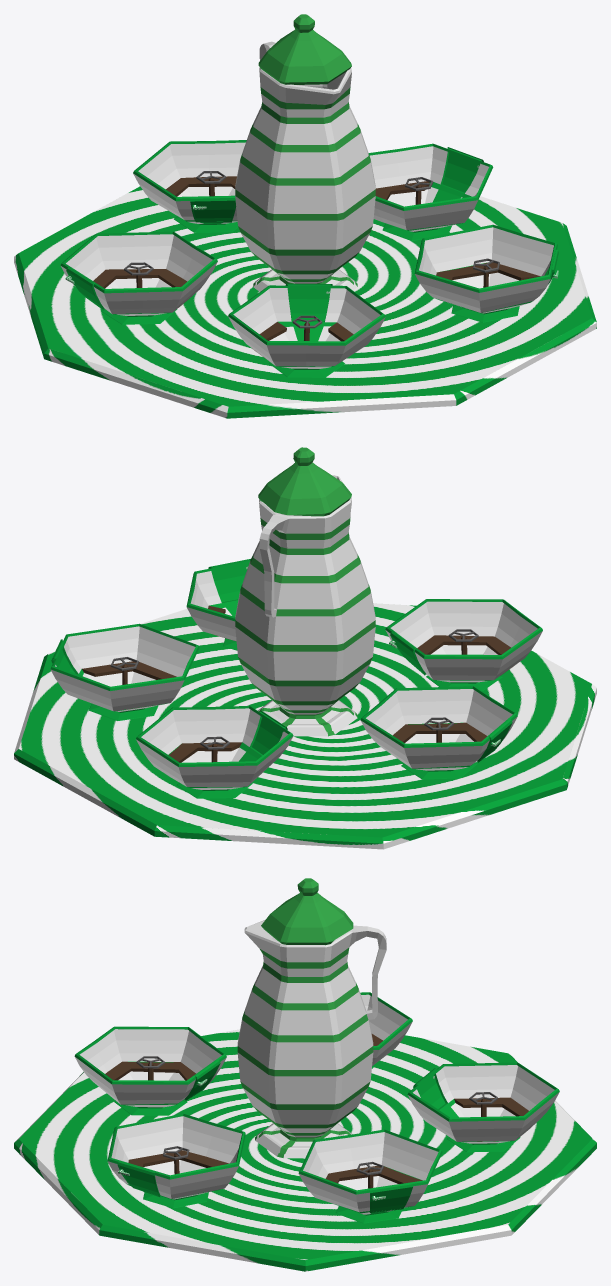
File: Cups_V4.fbx
3 views of the same model, one above another, from view 1: azimuth 30°, elevation 25°; view 2: azimuth 150°, elevation 25°; view 3: azimuth 270°, elevation 25° (orthographic). The views are drawn at different scales.
Parts seen in each view (by area): view 1: Circle, Circle.003, Circle.005, Circle.006, Circle.004, Circle.008, Circle.007; view 2: Circle, Circle.003, Circle.007, Circle.008, Circle.006, Circle.005, Circle.004; view 3: Circle, Circle.003, Circle.007, Circle.005, Circle.004, Circle.008, Circle.006.
Boxes of the visible parts, x1,y1,x2,y2 form: Circle: (14, 186, 596, 418); Circle.003: (235, 14, 375, 291); Circle.005: (228, 283, 385, 377); Circle.006: (60, 231, 217, 324); Circle.004: (414, 224, 558, 322); Circle.008: (368, 143, 493, 240); Circle.007: (133, 140, 246, 232); Circle: (14, 603, 596, 849); Circle.003: (235, 447, 375, 736); Circle.007: (136, 706, 293, 798); Circle.008: (50, 623, 199, 720); Circle.006: (360, 686, 517, 779); Circle.005: (385, 599, 542, 690); Circle.004: (186, 559, 250, 650); Circle: (14, 1029, 596, 1271); Circle.003: (237, 878, 386, 1158); Circle.007: (407, 1062, 559, 1152); Circle.005: (74, 1026, 226, 1115); Circle.004: (107, 1113, 245, 1208); Circle.008: (298, 1129, 442, 1223); Circle.006: (360, 992, 412, 1068).
Size of the model in its own units: 1400 by 1400 by 711.
